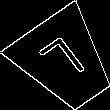L_SE: (37, 32, 94, 92)
